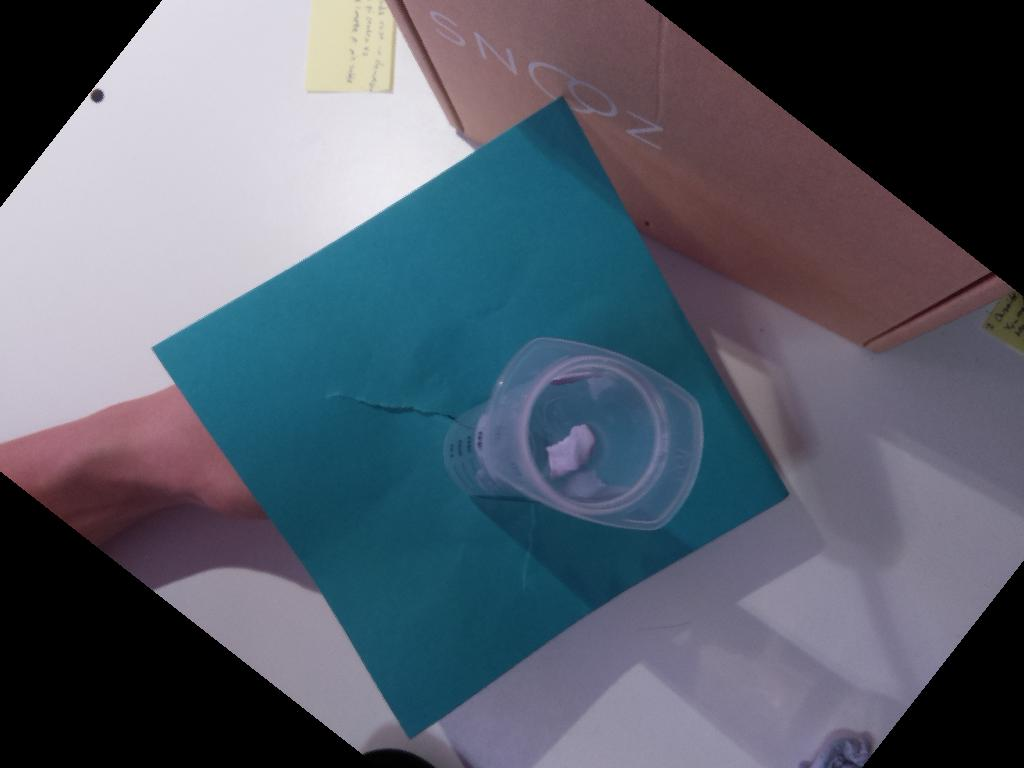dirty: (485, 336, 702, 532)
